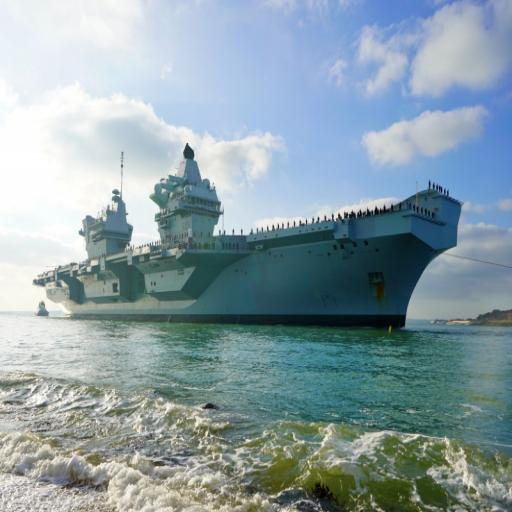Portanaves: (31, 138, 466, 339)
